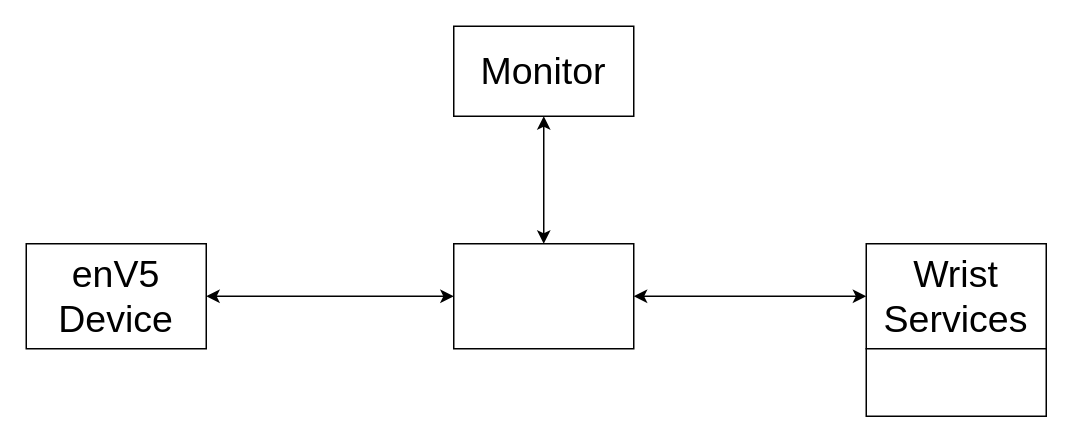
Image size: 1073x443. Some labels were removed from this diagram. The shapes that lost their labels are listed below. From the top down, each one's box as (x1, y1, x2, y2) in pixels, then its label:
(452, 242, 634, 349): enV5 WristTwin
(865, 347, 1046, 416): External API
